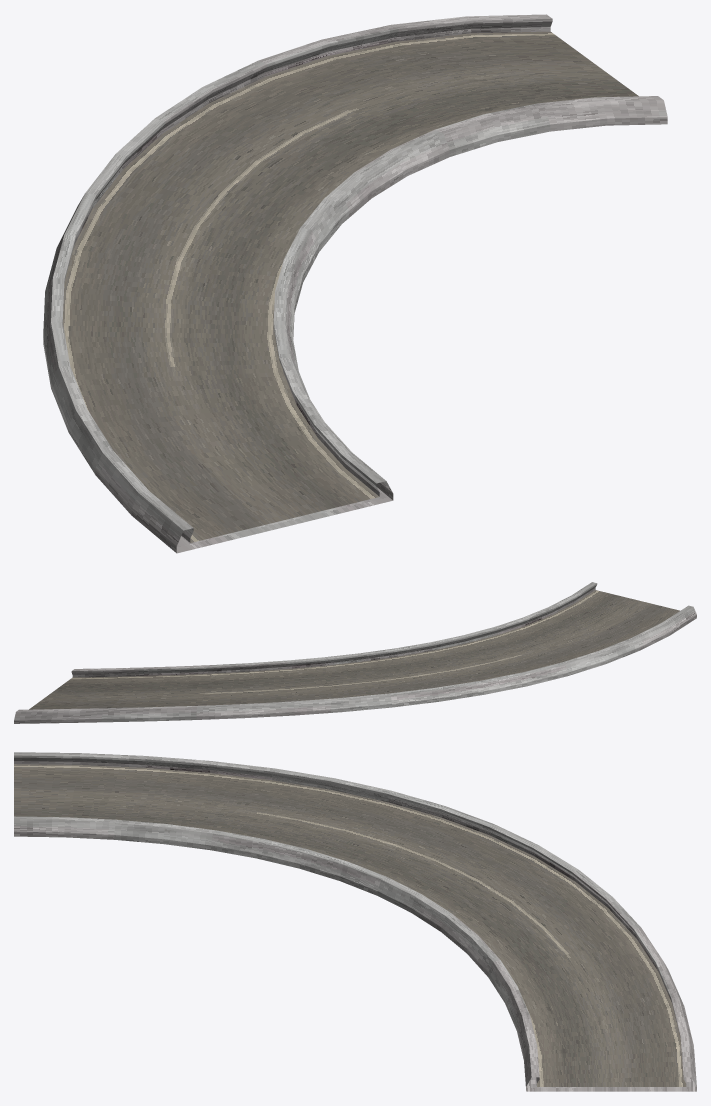
File: road-Turn-Flat-BiSlopeDown-Down1-Right-Size4.glb
3 renders of one model, top to bottom at view 1: azimuth 30°, elevation 25°; view 2: azimuth 150°, elevation 25°; view 3: azimuth 270°, elevation 25°, orthographic. The views are drawn at different scales.
Visible parts, largest first — view 1: road-Turn-Flat-BiSlopeDown-Down1-Right-Size4; view 2: road-Turn-Flat-BiSlopeDown-Down1-Right-Size4; view 3: road-Turn-Flat-BiSlopeDown-Down1-Right-Size4.
Boxes of the visible parts, x1,y1,x2,y2 form: road-Turn-Flat-BiSlopeDown-Down1-Right-Size4: [43, 14, 667, 553]; road-Turn-Flat-BiSlopeDown-Down1-Right-Size4: [14, 582, 696, 723]; road-Turn-Flat-BiSlopeDown-Down1-Right-Size4: [14, 752, 696, 1091].
Size of the model in its own units: 4 by 0.4242 by 4.
2 materials, 2 textured.
